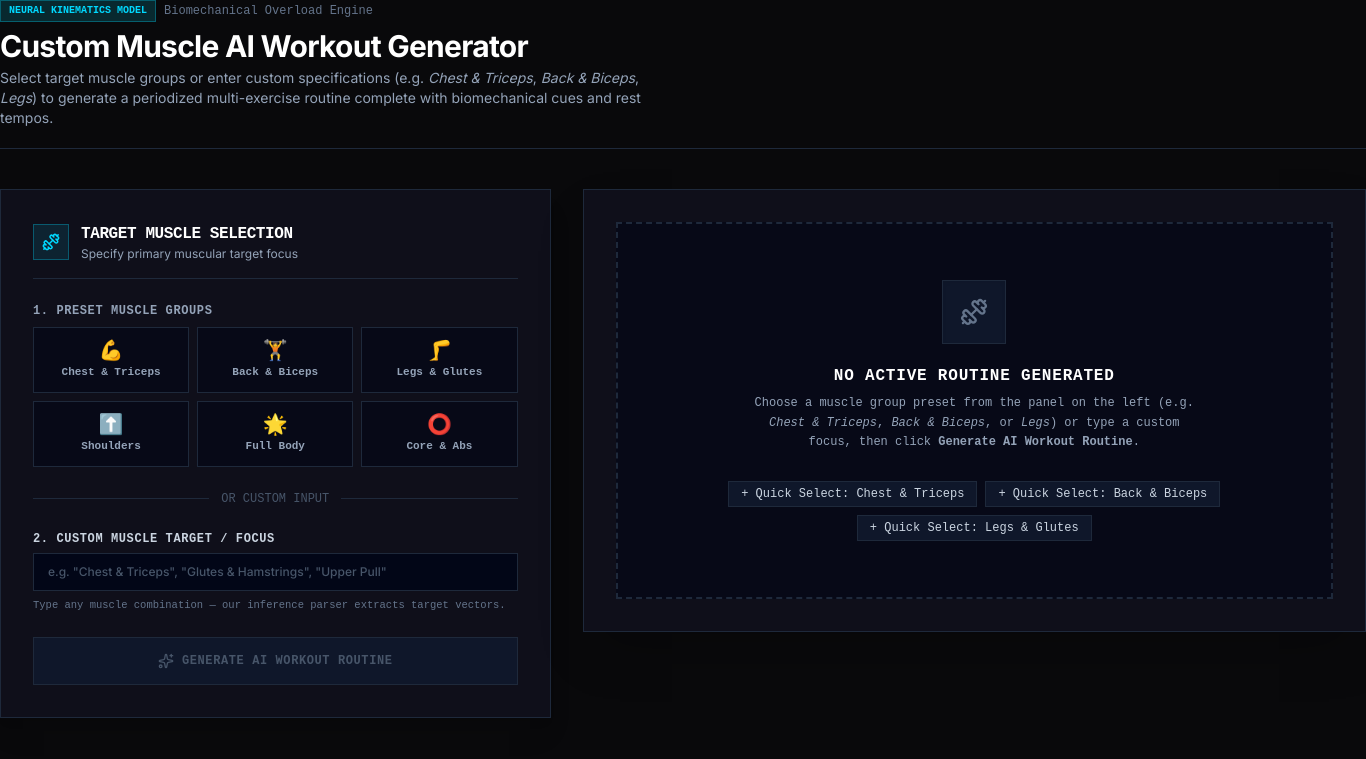
Test: WorkoutGenerator Component › supports custom text input for arbitrary muscle groups
Type "Legs & Glutes" into the field with placeholder "e.g. \"Chest & Triceps\", \"Glutes & Hamstrings\", \"Upper Pull\"" at (275, 572), box [33, 552, 518, 590]
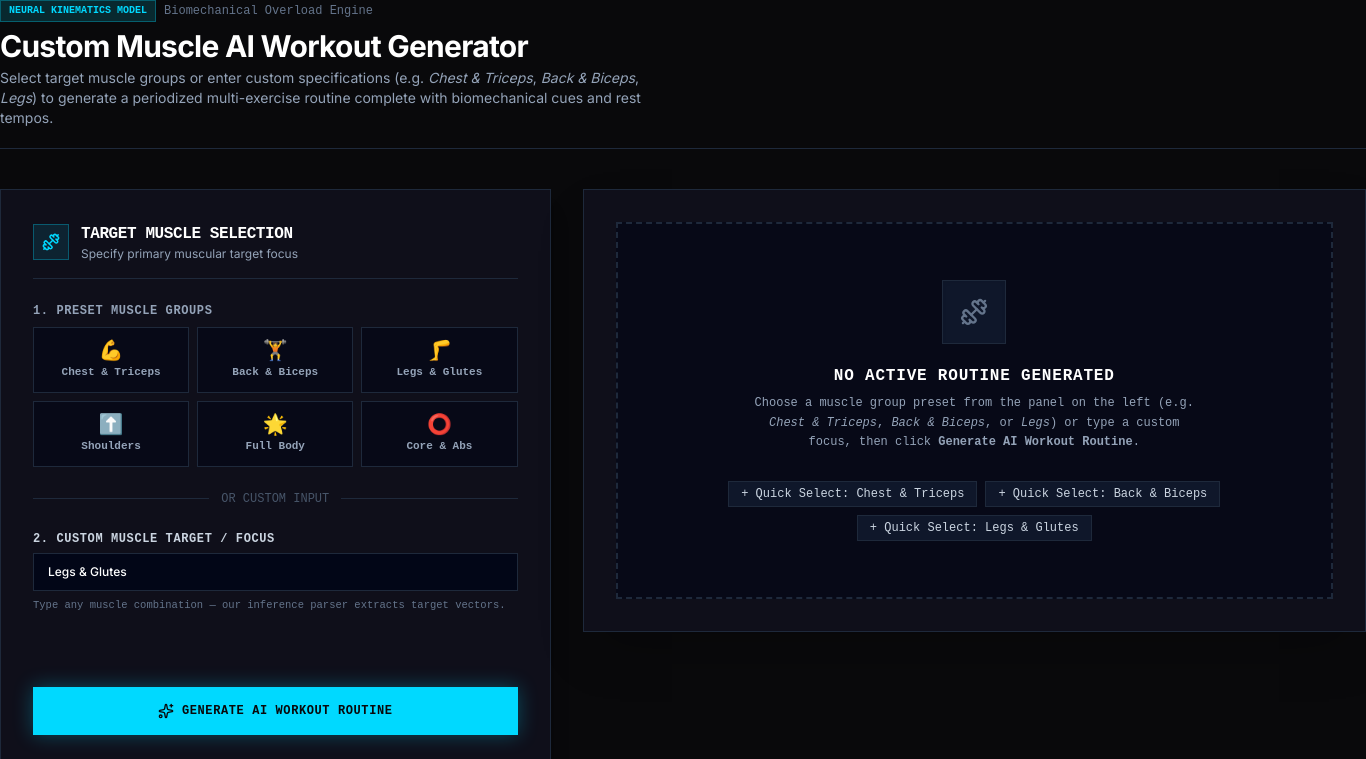
Click the button "Generate AI Workout Routine" at (275, 711), box [33, 687, 518, 735]
Wait 3000 ms
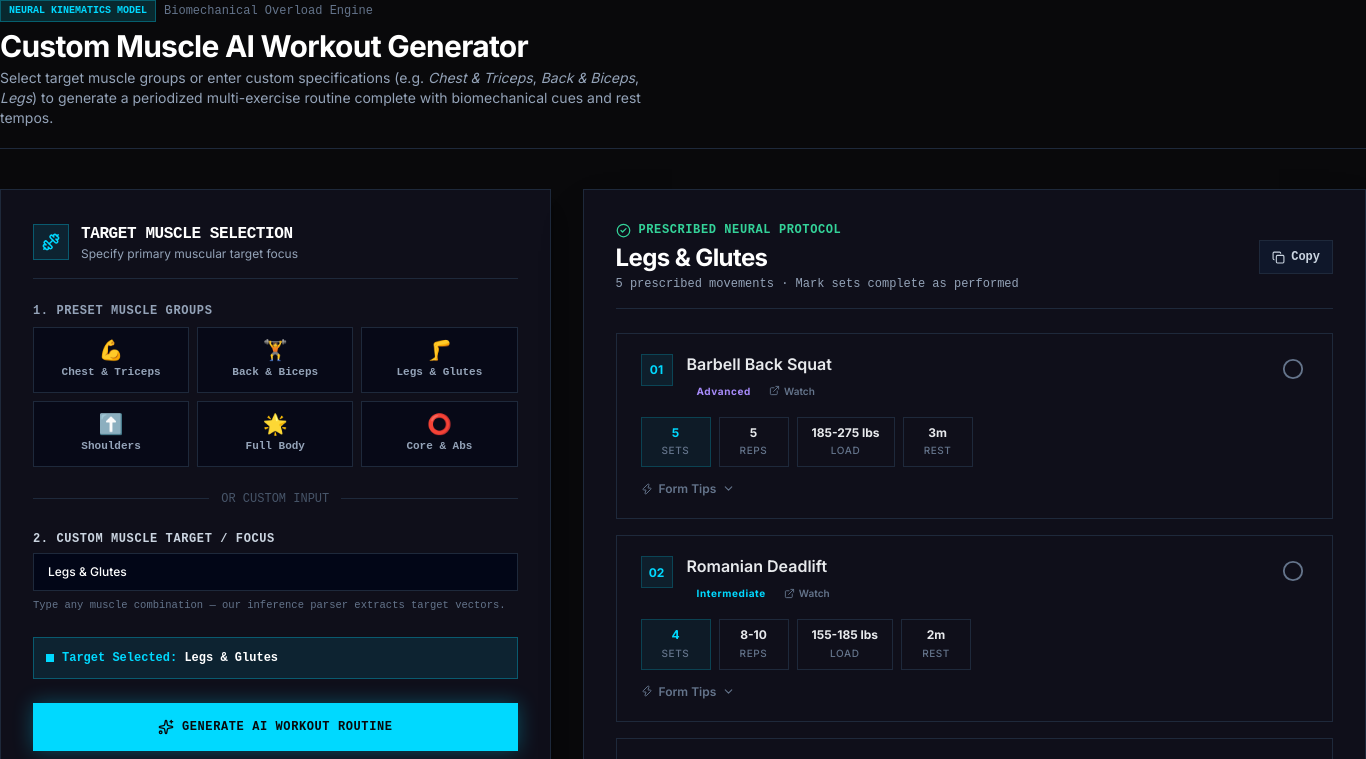
Expected: the heading "Barbell Back Squat" is shown, [686, 354, 832, 374]
Expected: the heading "Romanian Deadlift" is shown, [686, 556, 827, 576]
